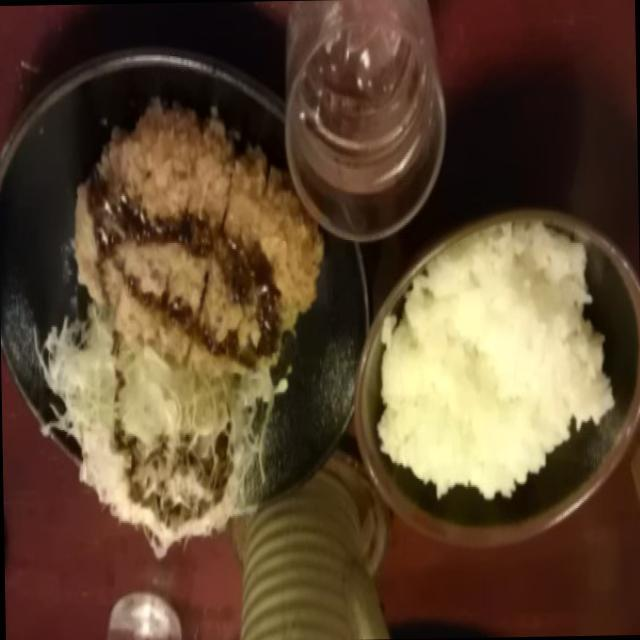Rice: (370, 234, 614, 516)
